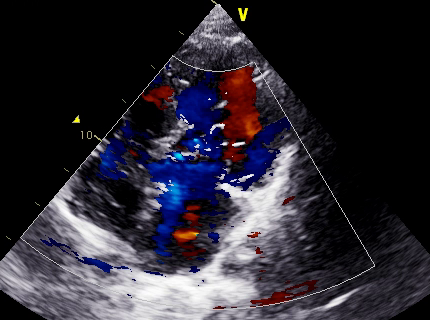MR: (180, 138, 260, 219)
